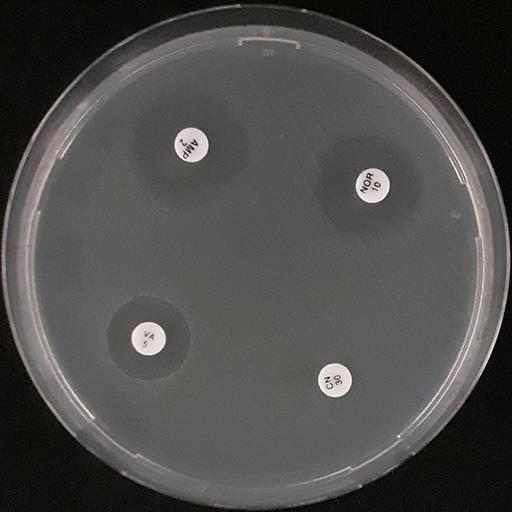disc: (355, 166, 391, 203), (174, 125, 210, 161), (131, 321, 167, 357), (317, 362, 353, 398)
